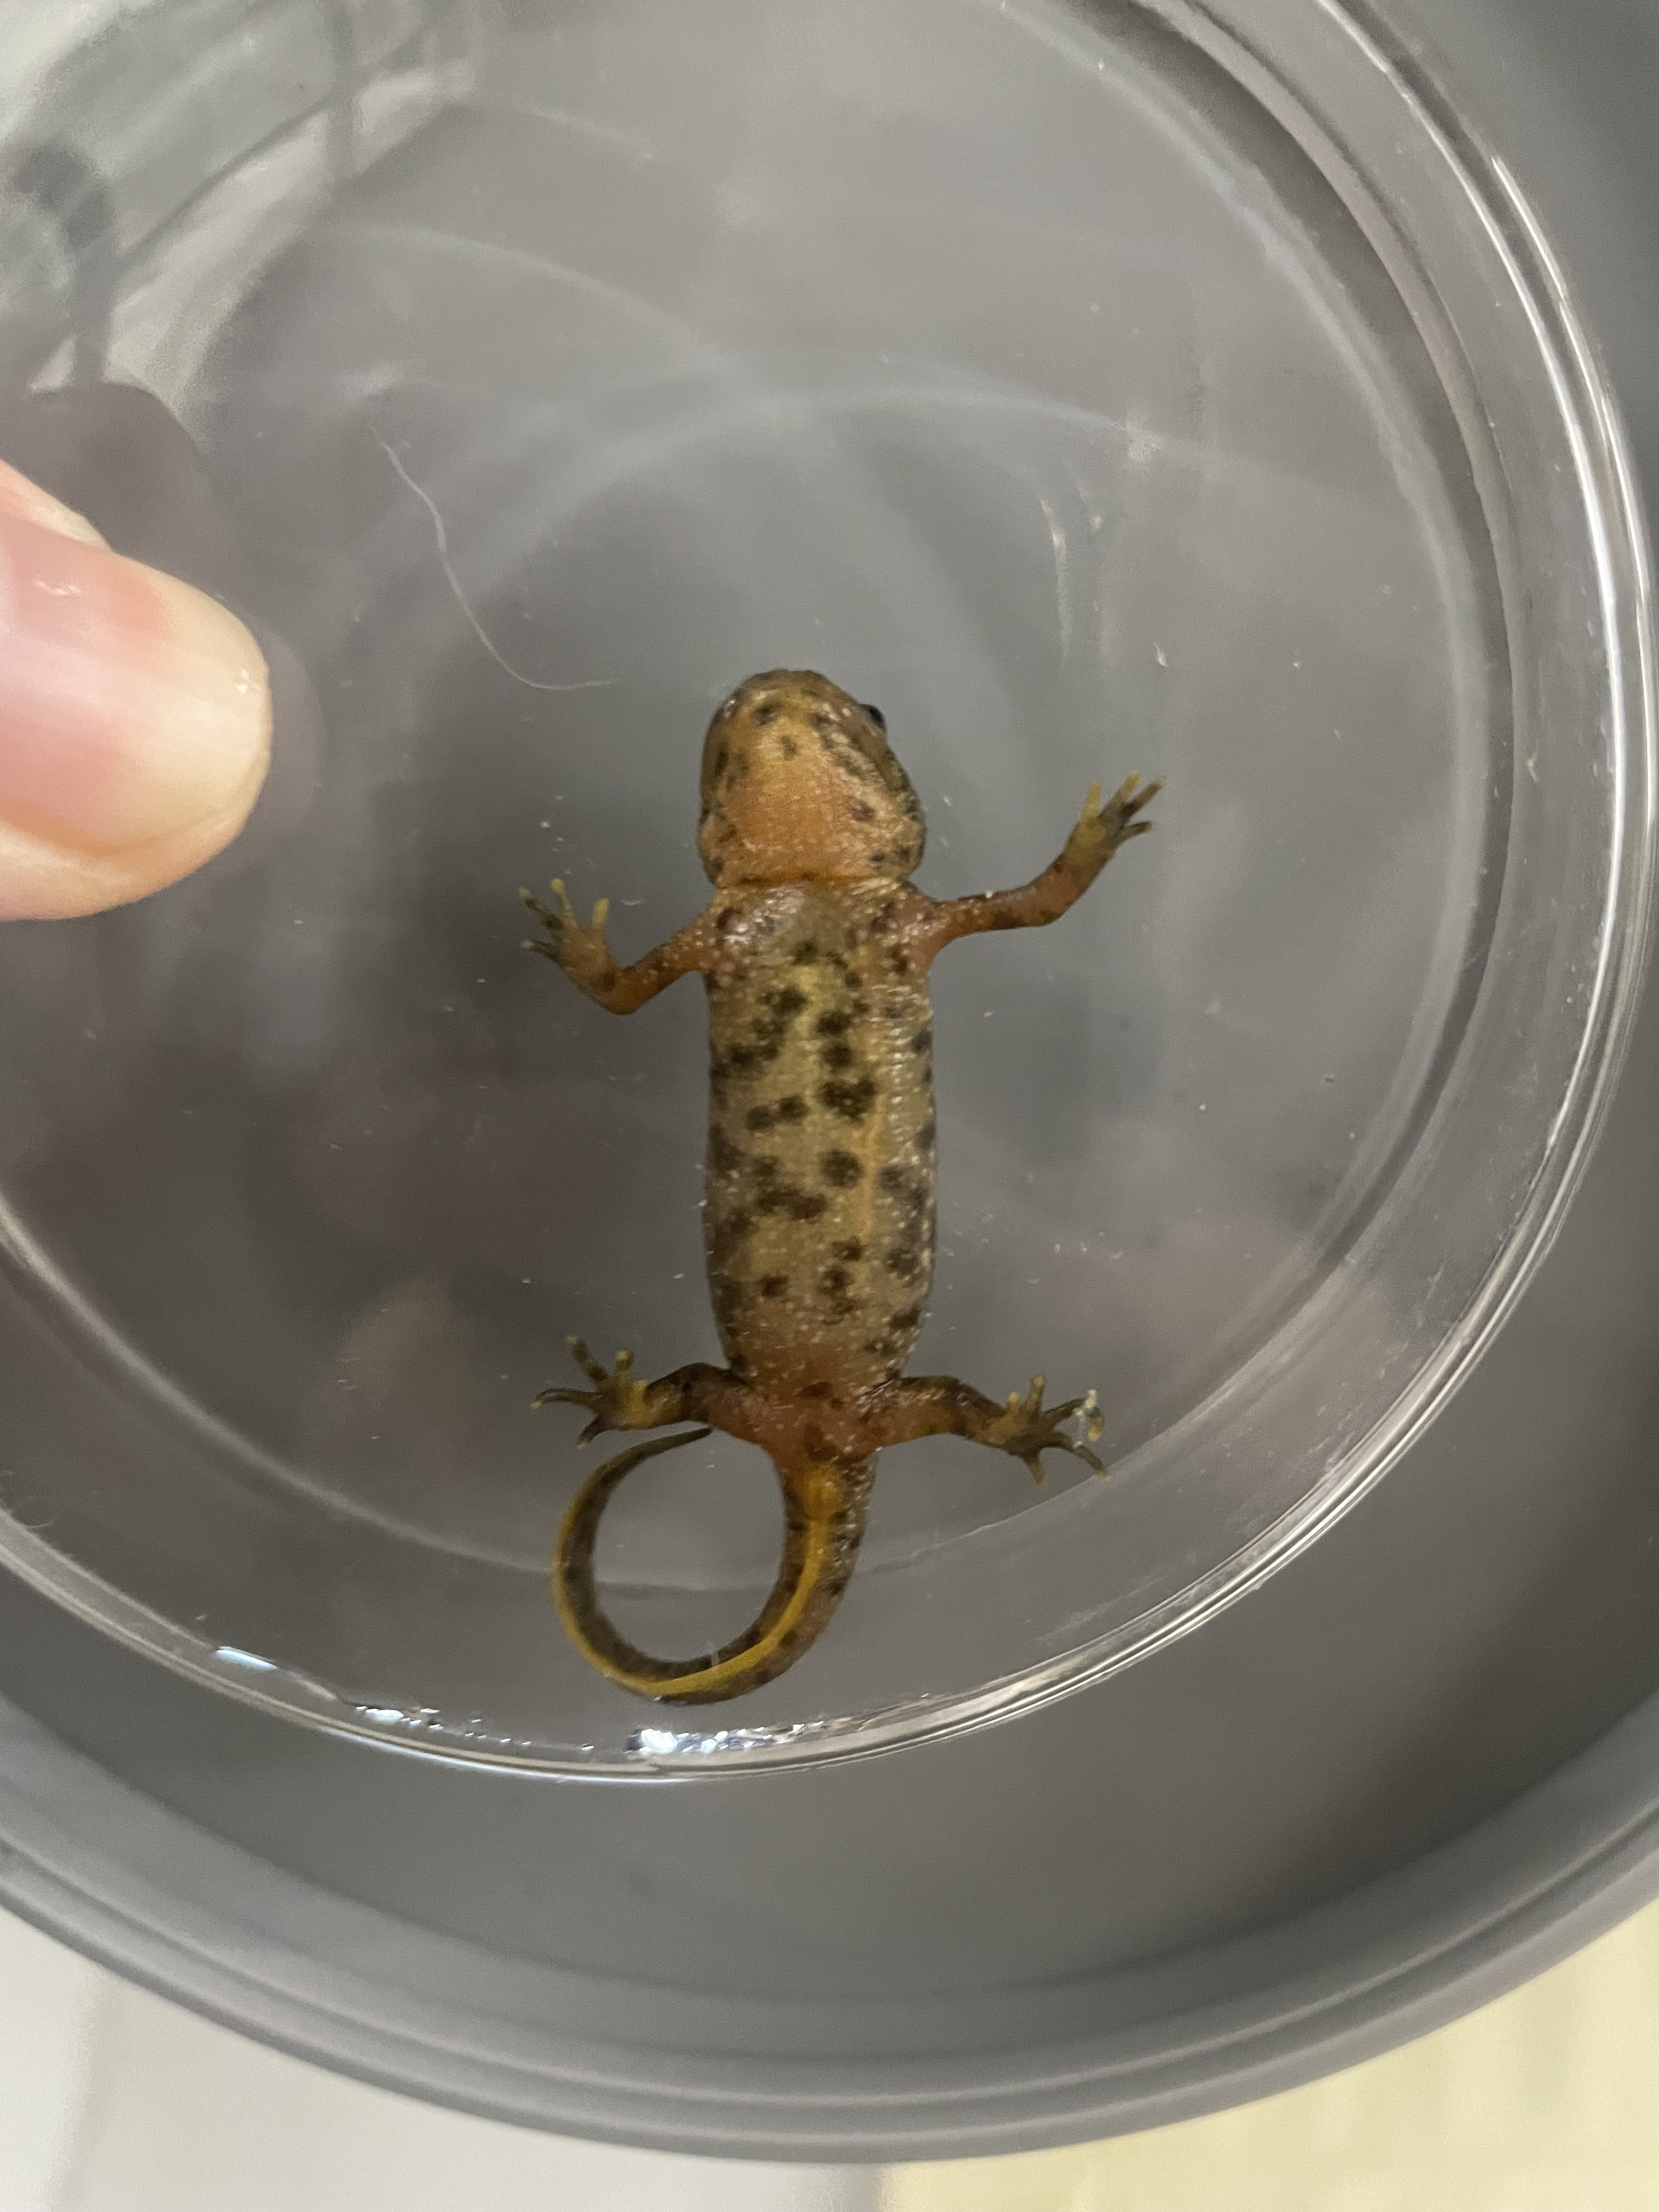newt_ribbed: (704, 956, 938, 1381)
